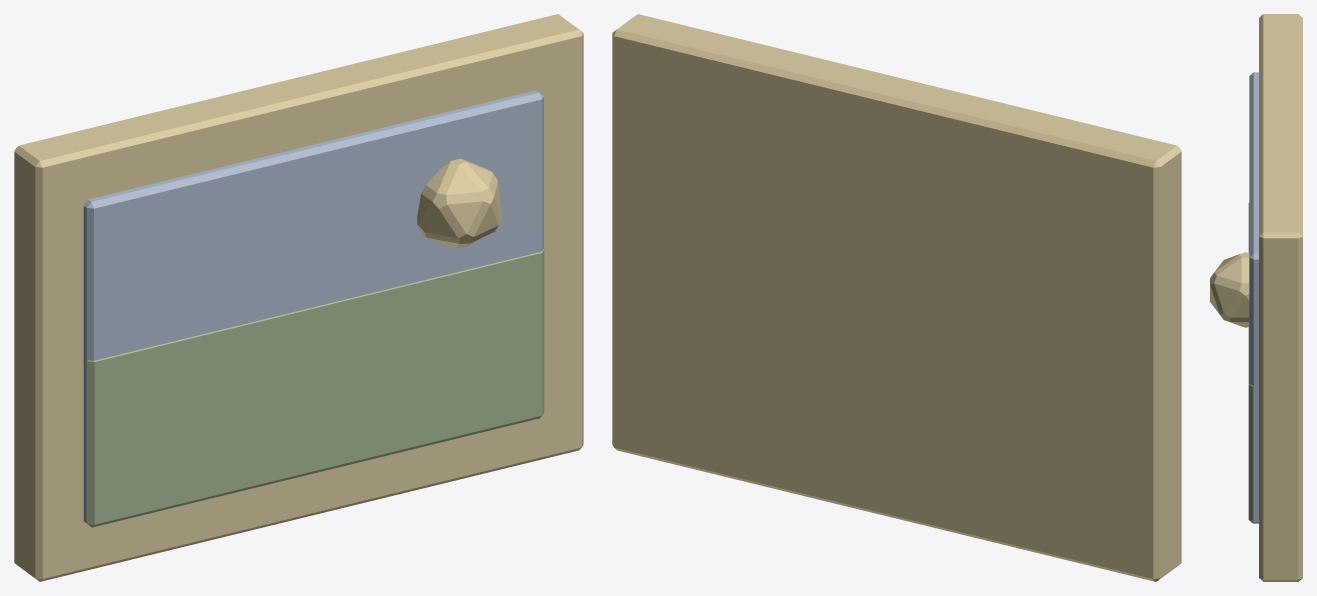
File: SM_Painting.fbx
3 renders of one model, left to right at view 1: azimuth 30°, elevation 25°; view 2: azimuth 150°, elevation 25°; view 3: azimuth 270°, elevation 25°, orthographic. The views are drawn at different scales.
Visible parts, largest first — view 1: Painting; view 2: Painting; view 3: Painting.
Part boxes in pixels (x1,y1,x2,y2): Painting: (14,14,583,581); Painting: (612,14,1181,581); Painting: (1210,14,1302,581).
Size of the model in its own units: 60 by 44 by 10.57.
